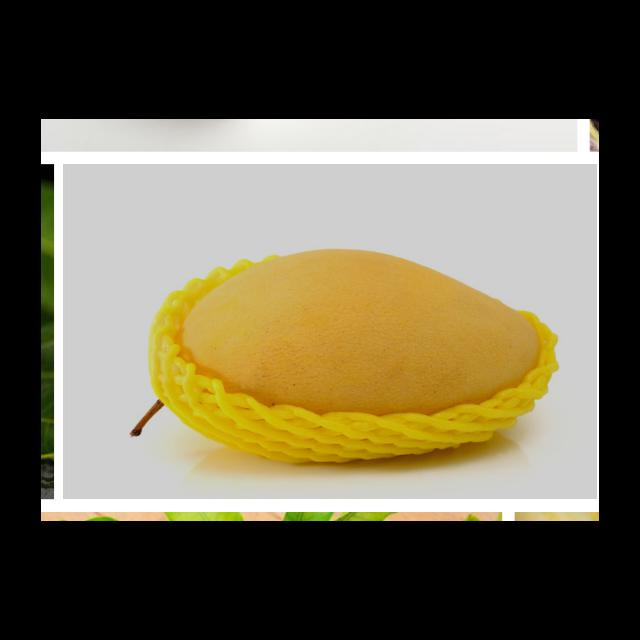mango: (184, 246, 543, 424)
